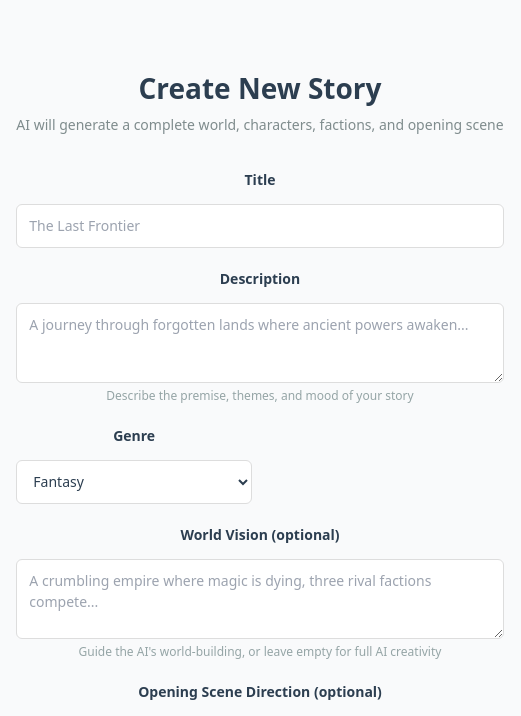
Scenario: CreateStoryPage › shows error on API failure
Type "My Story" into the field labelled "Title" at x=260, y=226, box [16, 204, 504, 248]
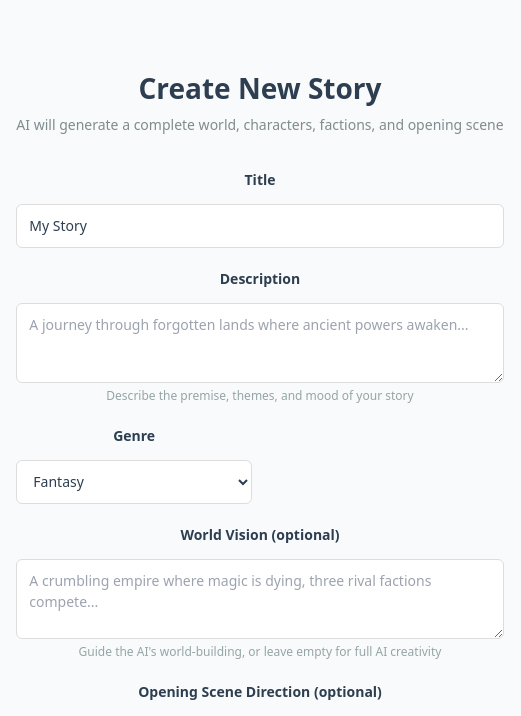
Replace the text in the text box labelled "Description" with "A great adventure" at x=260, y=343, box [16, 303, 504, 383]
(page scrolled)
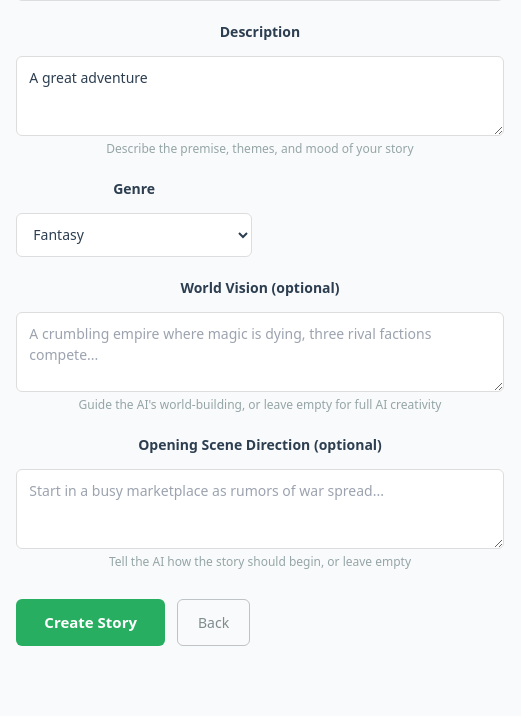
Click the button "Create Story" at x=91, y=622, box [16, 599, 165, 646]
(page scrolled)
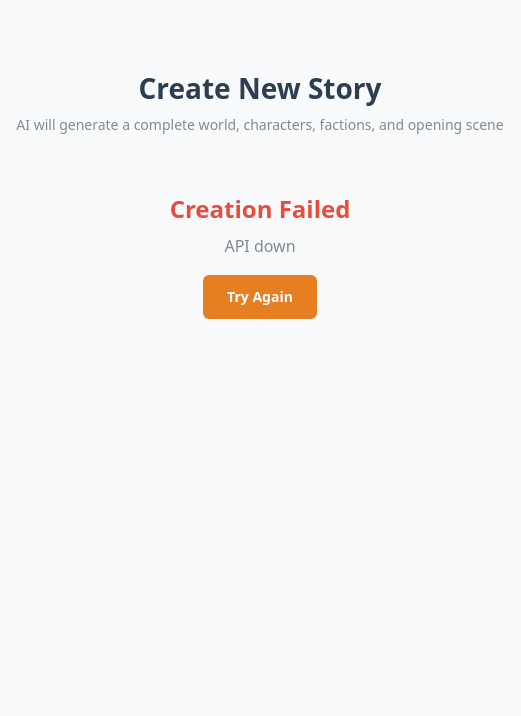
Check: the heading "Creation Failed" is shown, box [170, 192, 350, 225]
Check: the text "API down" is shown, box [224, 235, 296, 257]
